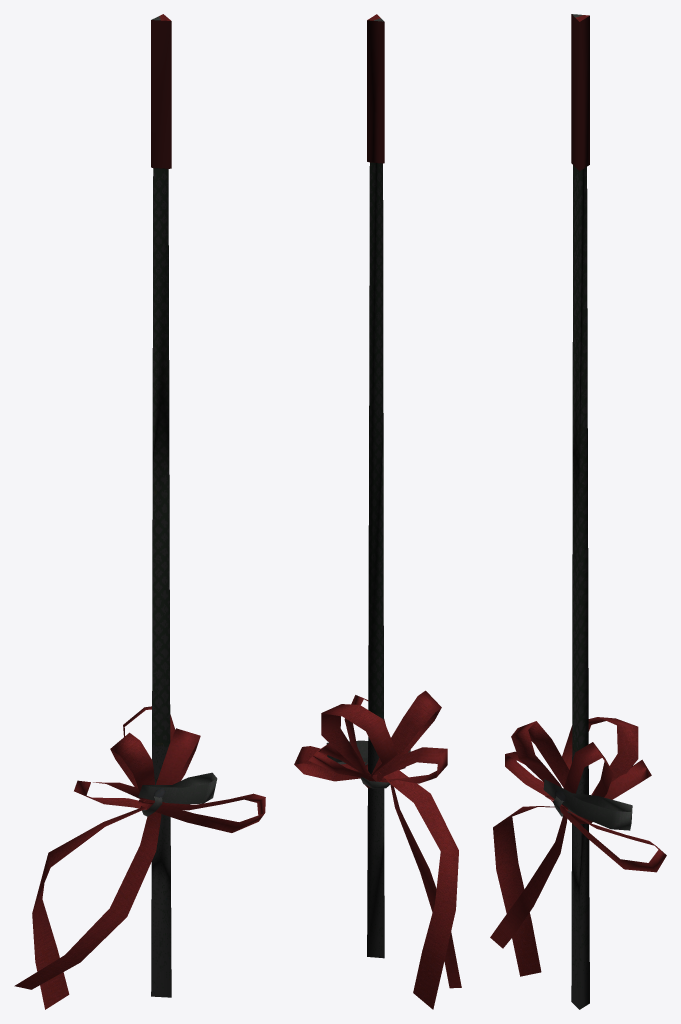
Rendered from Melee_Prop_Baton_Prop_LOD_(000191).glb.
3 views of the same model, side by side, from view 1: azimuth 30°, elevation 25°; view 2: azimuth 150°, elevation 25°; view 3: azimuth 330°, elevation 25° (orthographic). The views are drawn at different scales.
Visible parts, largest first — view 1: props_lod; view 2: props_lod; view 3: props_lod.
Boxes of the visible parts, left/top/right/bottom form: props_lod: left=14, top=14, right=265, bottom=1009; props_lod: left=294, top=14, right=461, bottom=1009; props_lod: left=490, top=14, right=666, bottom=1009.
Bounding box in the file's own units: 0.1835 × 0.8307 × 0.075.
1 material, 1 textured.
